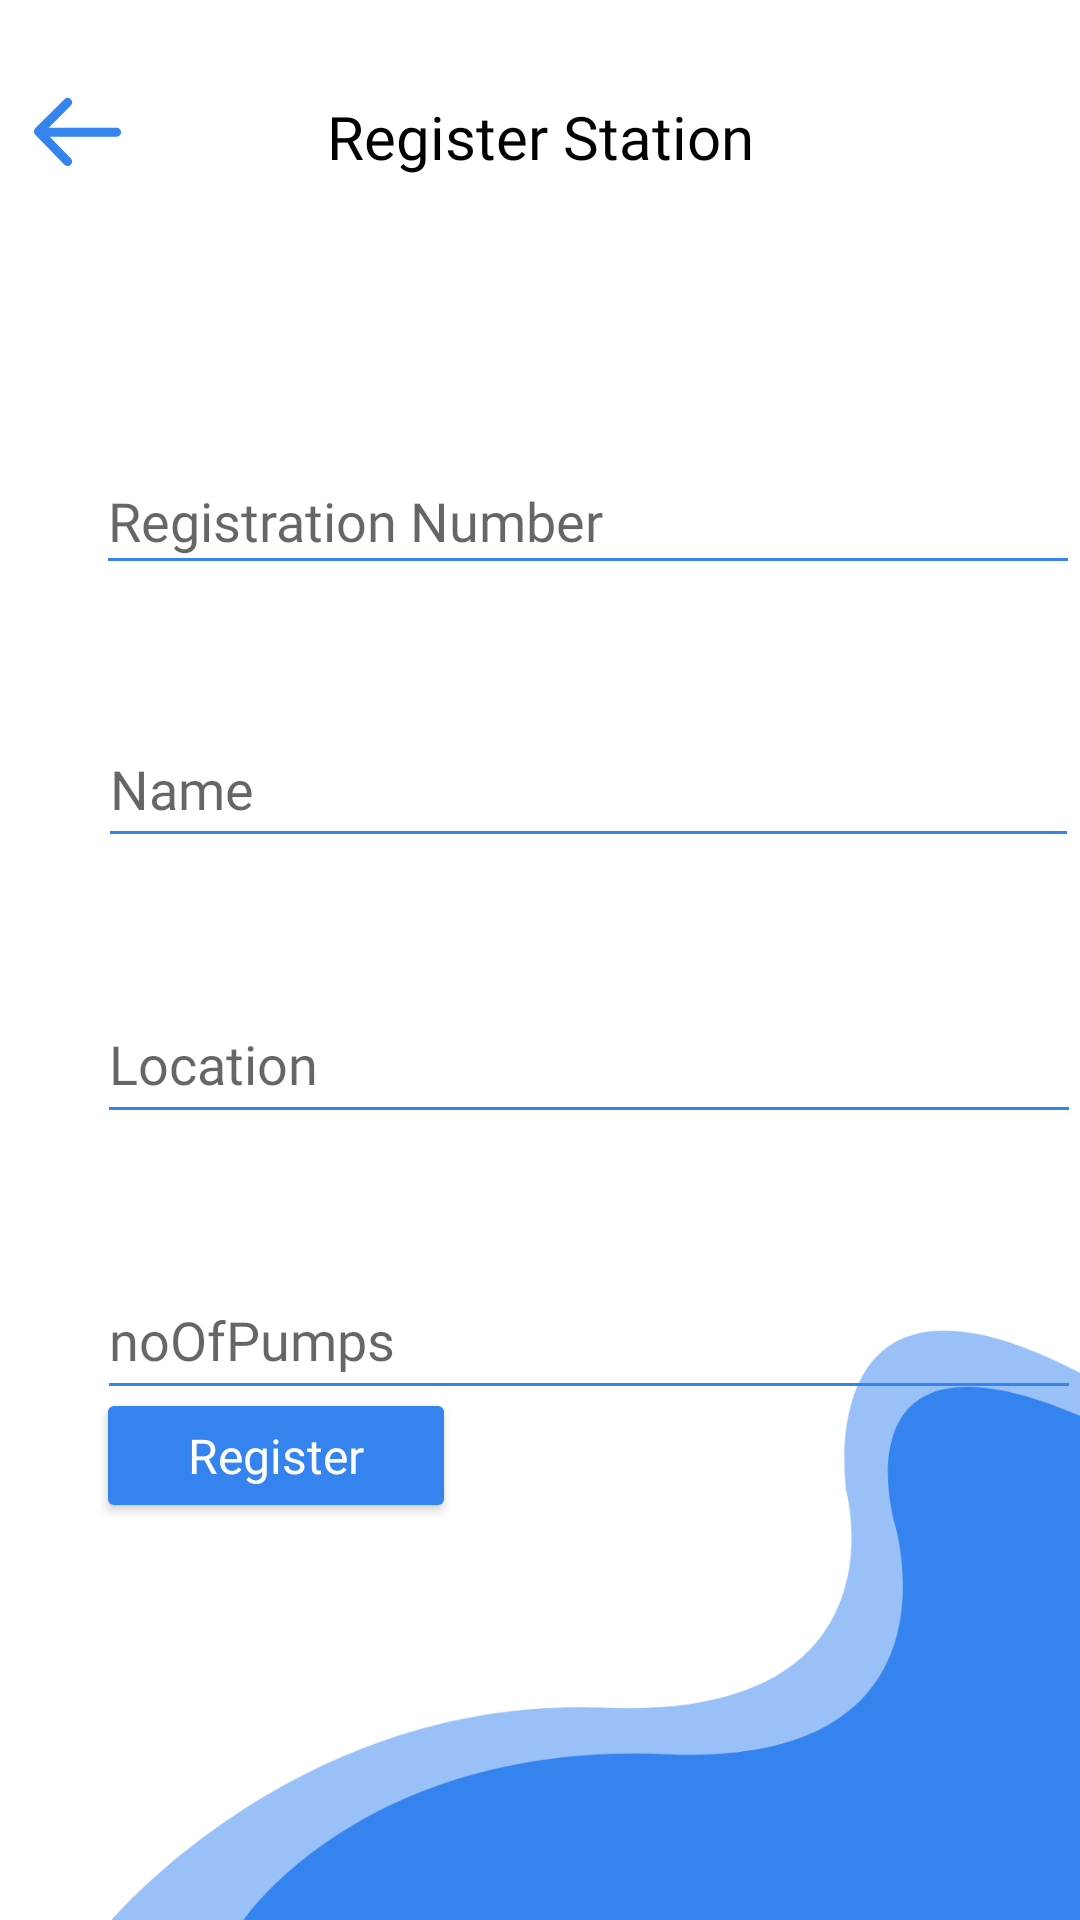

Icon bounding boxes for this 1080×1920 phone screenshot, format (x1=x1, y1=y1, x2=x2, y2=y2):
back: (x1=34, y1=97, x2=121, y2=166)
